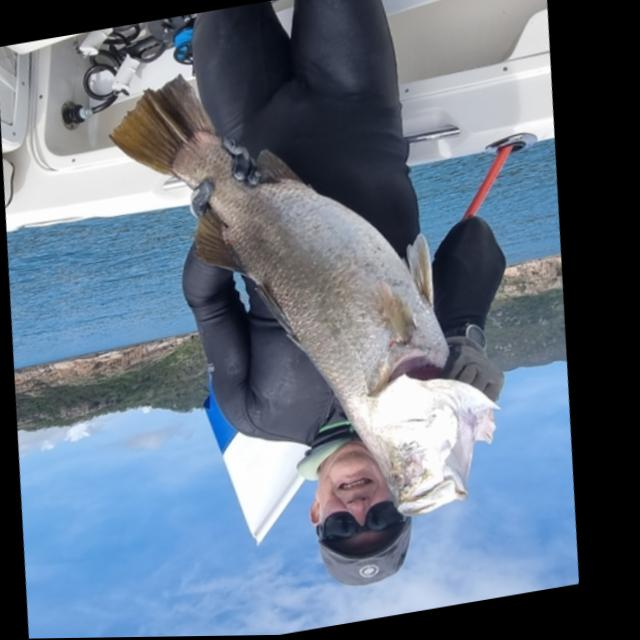Seabass: (55, 25, 553, 564)
